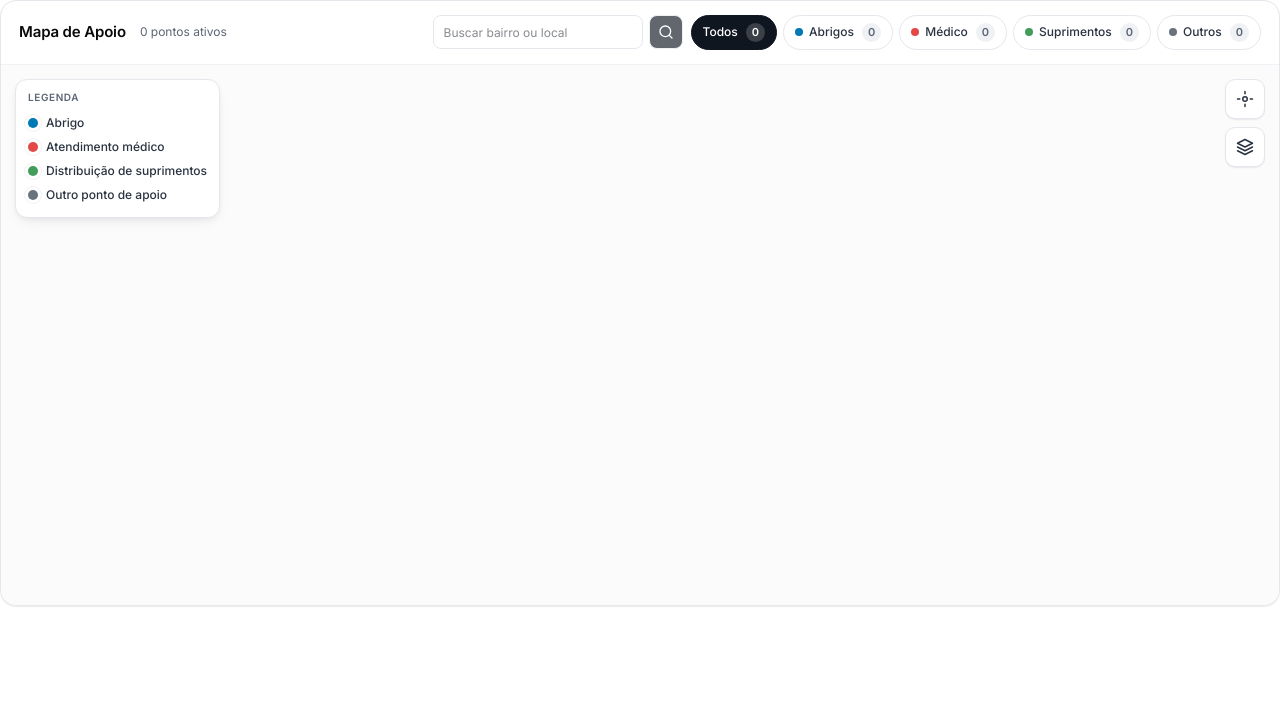
Test: MapCard › centraliza o mapa no local pesquisado
The image size is (1280, 720).
Type "Boa Viagem" into the search field named "pesquisar local" at coordinates (538, 32), box left=432, top=15, right=642, bottom=49
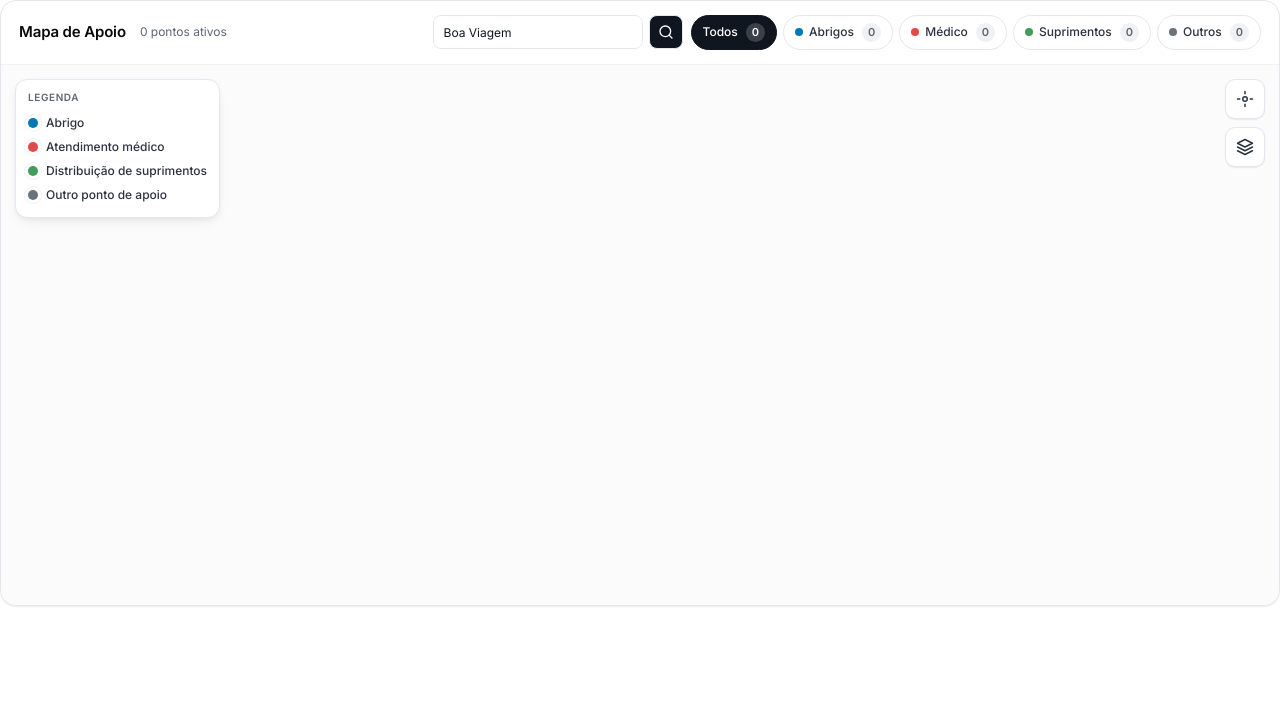
Click the button named "buscar local" at coordinates (666, 32), box left=648, top=15, right=682, bottom=49
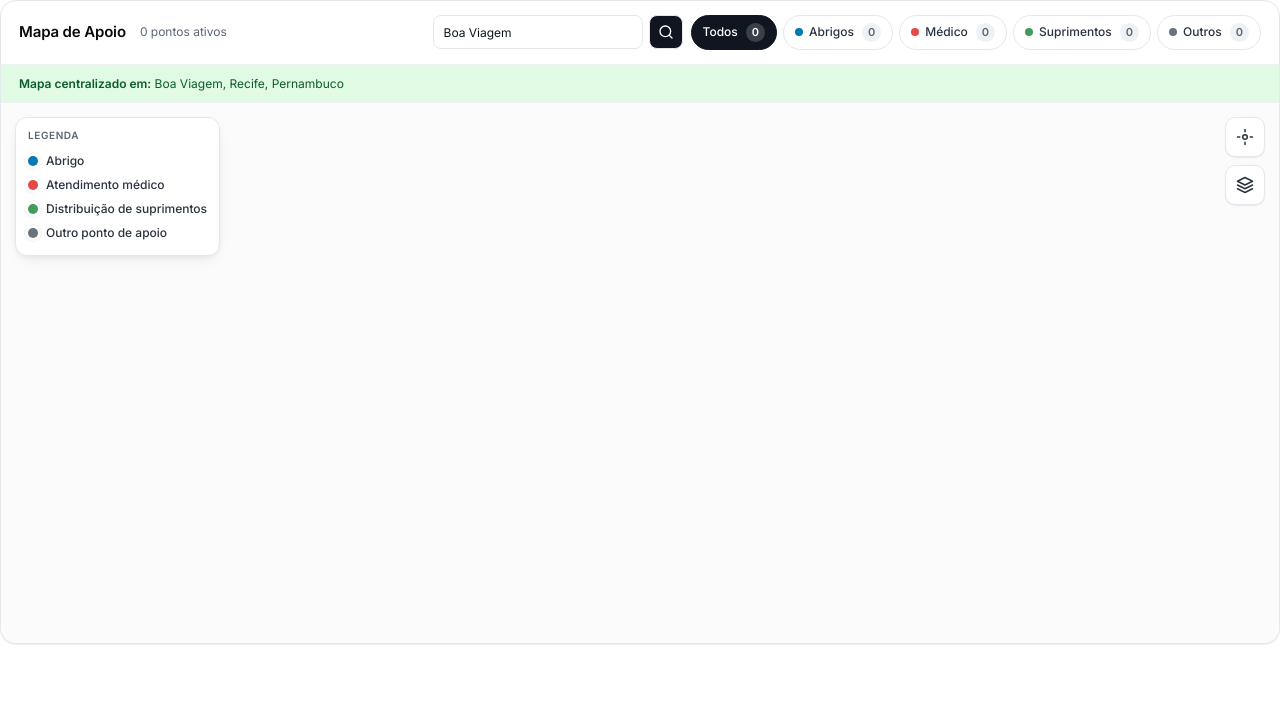
Result: the text "Mapa centralizado em: Boa Viagem, Recife, Pernambuco" is shown at left=1, top=64, right=1279, bottom=103
